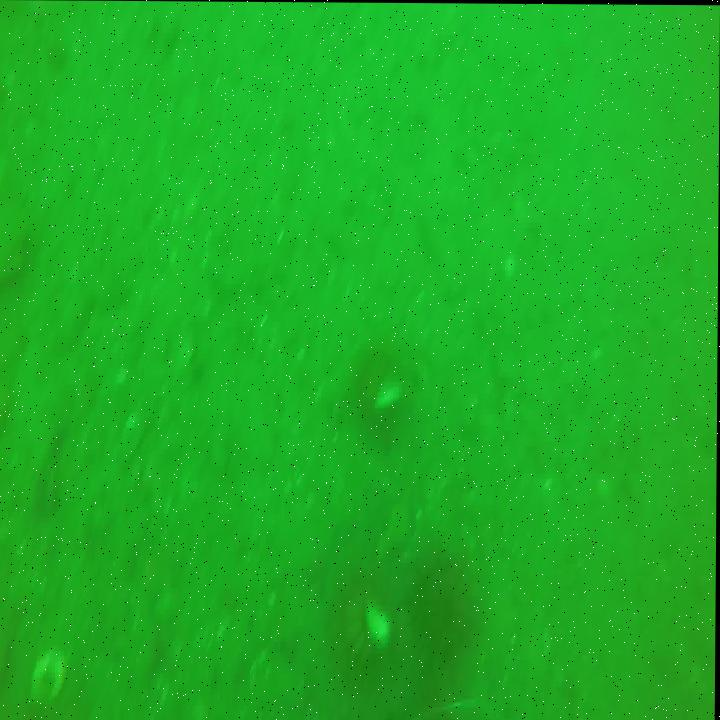echinus: (409, 545, 479, 676), (335, 562, 400, 687), (353, 339, 414, 446)
scallop: (30, 647, 68, 703)
